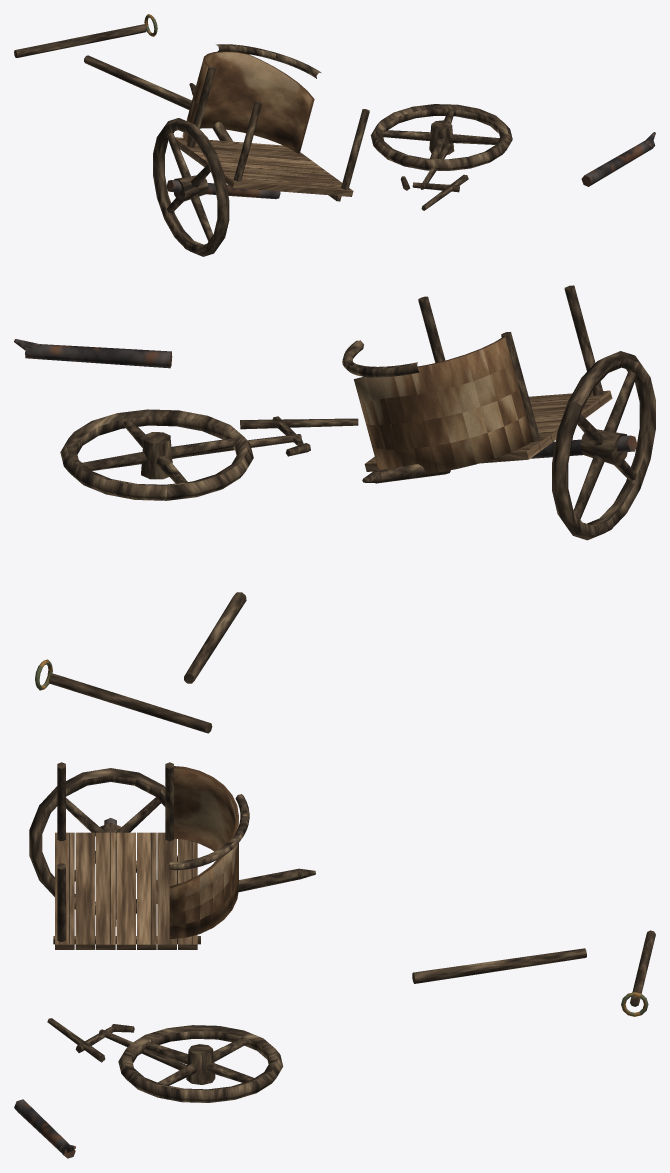
File: carro_rotto.gltf
The picture shows the model from 3 angles, top to bottom: view 1: azimuth 30°, elevation 25°; view 2: azimuth 150°, elevation 25°; view 3: azimuth 270°, elevation 25°; orthographic projection. The views are drawn at different scales.
Visible parts, largest first — view 1: carro_rotto; view 2: carro_rotto; view 3: carro_rotto.
Part boxes in pixels (x1,y1,x2,y2): carro_rotto: (14, 14, 655, 256); carro_rotto: (14, 285, 655, 733); carro_rotto: (14, 762, 655, 1158).
Size of the model in its own units: 3.86 by 1.21 by 3.92.
5 materials, 5 textured.
